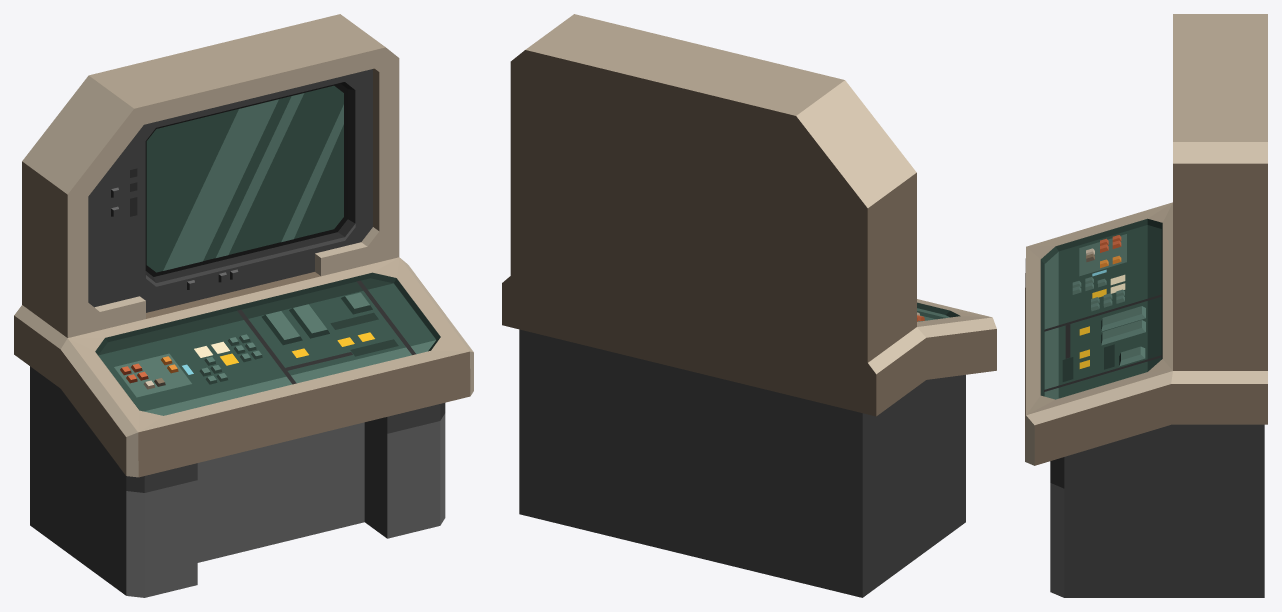
Rendered from CR_Computer_WithMonitor.fbx.
3 views of the same model, side by side, from view 1: azimuth 30°, elevation 25°; view 2: azimuth 150°, elevation 25°; view 3: azimuth 270°, elevation 25° (orthographic). The views are drawn at different scales.
Parts seen in each view (by area): view 1: CR_Computer_WithMonitor; view 2: CR_Computer_WithMonitor; view 3: CR_Computer_WithMonitor.
Part boxes in pixels (x1=…): CR_Computer_WithMonitor: x1=14, y1=14, x2=473, y2=597; CR_Computer_WithMonitor: x1=502, y1=14, x2=996, y2=597; CR_Computer_WithMonitor: x1=1025, y1=14, x2=1267, y2=597.
Bounding box in the file's own units: 1.32 × 1.58 × 0.7667.
